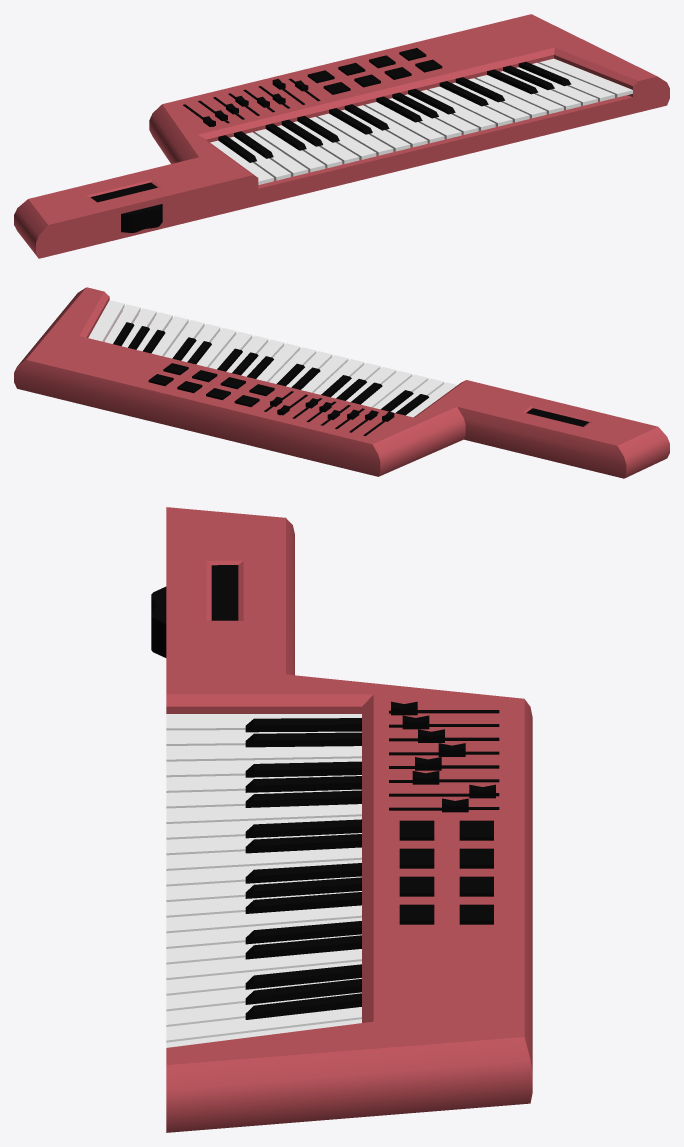
File: keytar.FBX
3 views of the same model, one above another, from view 1: azimuth 30°, elevation 25°; view 2: azimuth 150°, elevation 25°; view 3: azimuth 270°, elevation 25° (orthographic). The views are drawn at different scales.
Parts seen in each view (by area): view 1: keytar; view 2: keytar; view 3: keytar.
Part boxes in pixels (box(x1,y1,x2,y2)): keytar: box(14, 14, 669, 258); keytar: box(14, 287, 669, 478); keytar: box(151, 507, 532, 1132).
Bounding box in the file's own units: 174 × 9.45 × 48.14.
